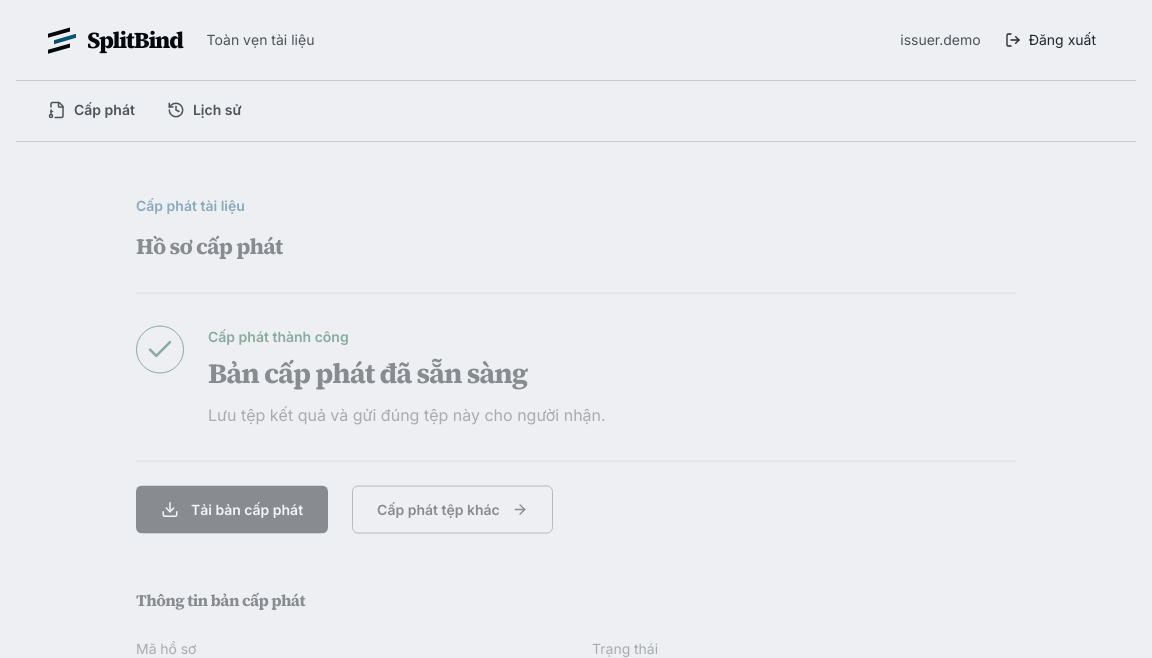
Test: issuance browser workflow › keeps download errors safe and retryable
Click the button "Tải bản cấp phát" at (232, 510), box [136, 485, 328, 534]
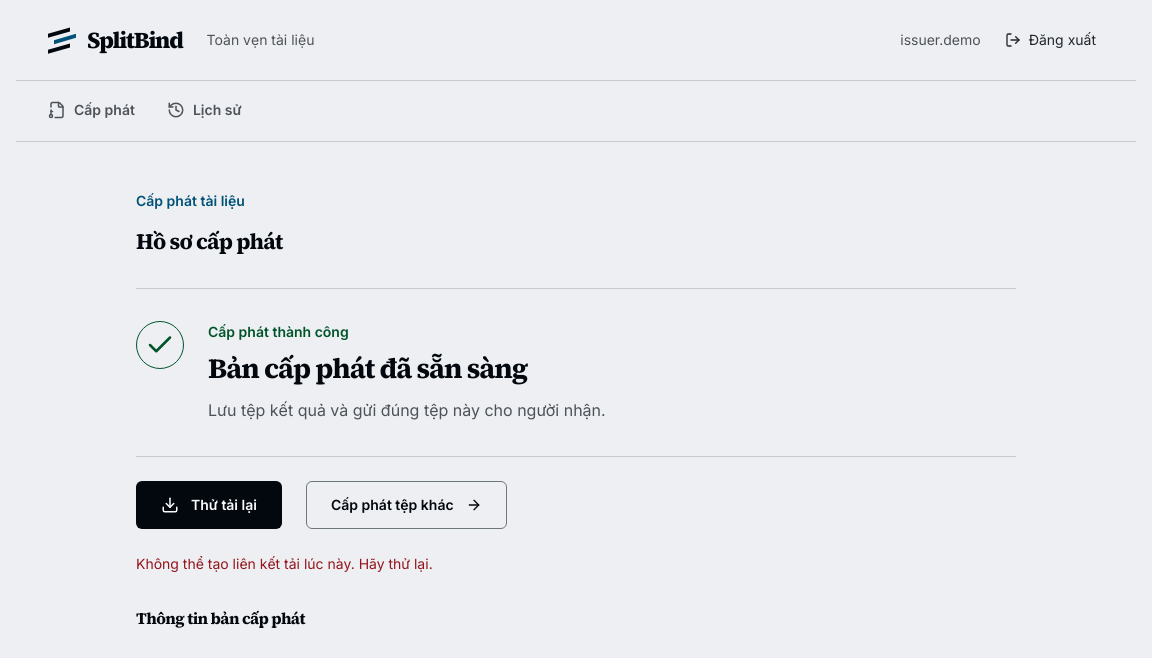
expect the message reads "Không thể tạo liên kết tải lúc này. Hãy thử lại.": met, box [136, 555, 433, 572]
expect the button "Thử tải lại" is shown: met, box [136, 481, 282, 529]
